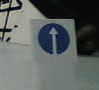forward: (38, 23, 71, 55)
